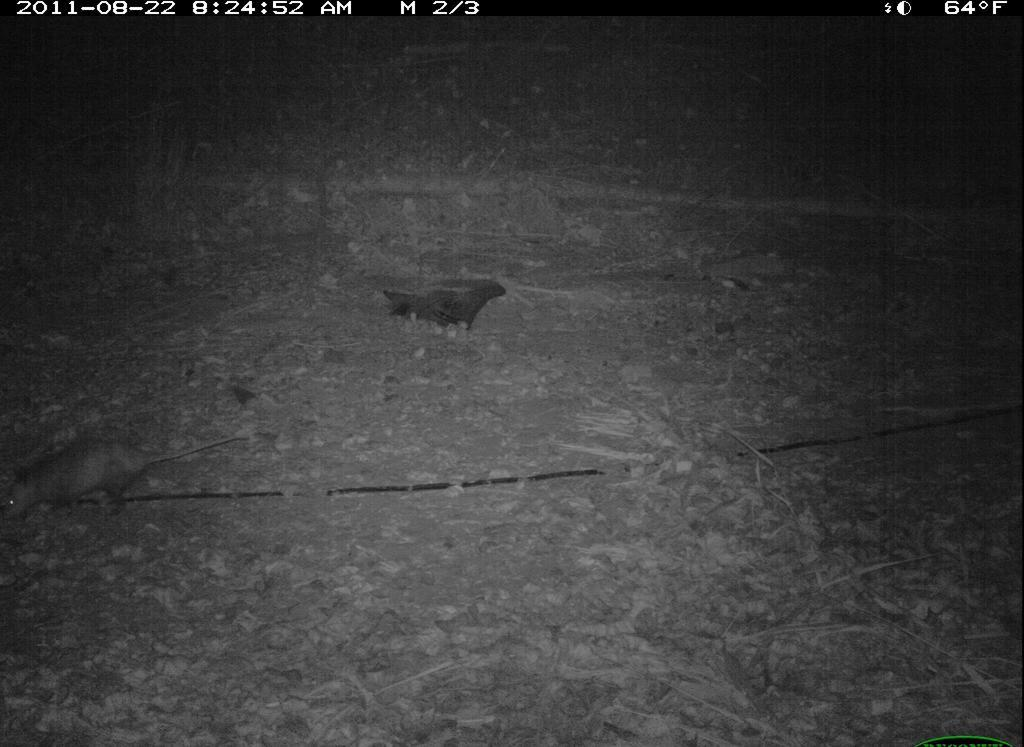opossum: (1, 422, 259, 532)
